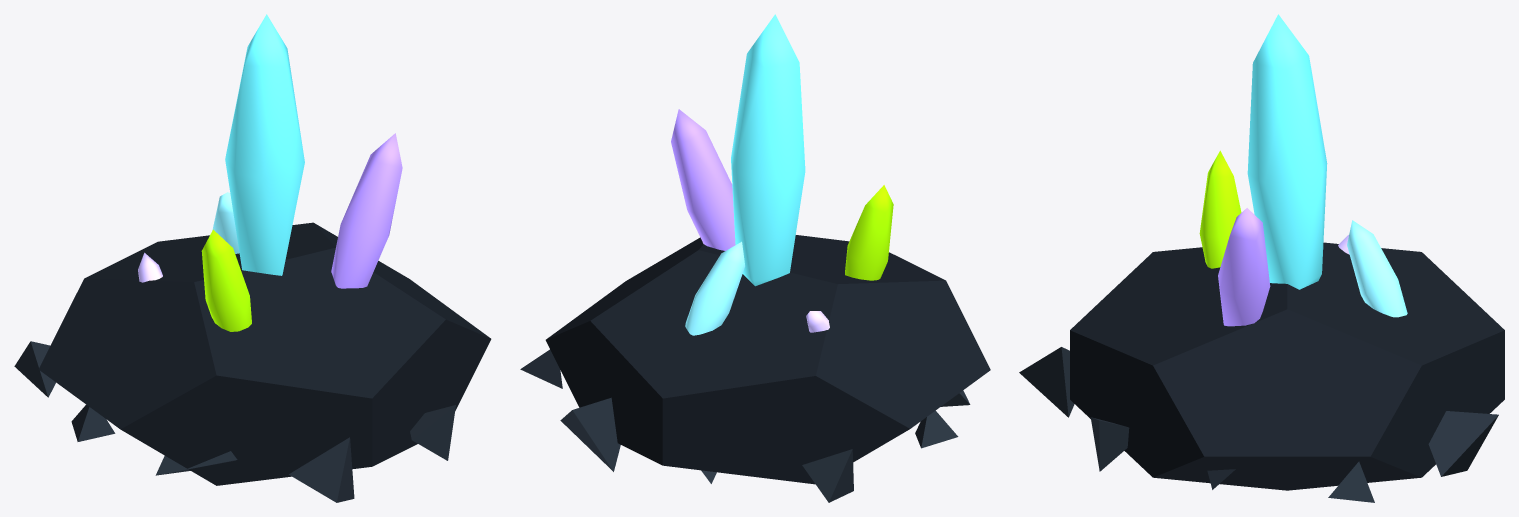
The model's file is demo.glb.
3 renders of one model, left to right at view 1: azimuth 30°, elevation 25°; view 2: azimuth 150°, elevation 25°; view 3: azimuth 270°, elevation 25°, orthographic. The views are drawn at different scales.
Visible parts, largest first — view 1: StoneBase, Crystal_0, Crystal_1, Crystal_2, Shard_2, Shard_1, Shard_5, Shard_4, Crystal_3, Shard_3; view 2: StoneBase, Crystal_0, Crystal_1, Crystal_2, Crystal_3, Shard_7, Shard_5, Shard_4, Shard_8; view 3: StoneBase, Crystal_0, Crystal_1, Crystal_3, Crystal_2, Shard_7, Shard_2, Shard_1, Shard_8.
Boxes of the visible parts, left/top/right/bottom form: StoneBase: left=38, top=222, right=491, bottom=485; Crystal_0: left=225, top=14, right=304, bottom=275; Crystal_1: left=331, top=133, right=402, bottom=288; Crystal_2: left=201, top=229, right=251, bottom=331; Shard_2: left=289, top=437, right=354, bottom=502; Shard_1: left=410, top=405, right=455, bottom=460; Shard_5: left=14, top=341, right=55, bottom=397; Shard_4: left=71, top=404, right=115, bottom=441; Crystal_3: left=212, top=192, right=239, bottom=253; Shard_3: left=155, top=451, right=237, bottom=475; StoneBase: left=545, top=235, right=990, bottom=484; Crystal_0: left=731, top=14, right=805, bottom=286; Crystal_1: left=671, top=109, right=735, bottom=250; Crystal_2: left=845, top=185, right=893, bottom=280; Crystal_3: left=685, top=241, right=744, bottom=335; Shard_7: left=560, top=397, right=620, bottom=471; Shard_5: left=802, top=449, right=853, bottom=502; Shard_4: left=915, top=410, right=958, bottom=448; Shard_8: left=520, top=349, right=562, bottom=388; StoneBase: left=1070, top=242, right=1504, bottom=490; Crystal_0: left=1247, top=14, right=1327, bottom=289; Crystal_1: left=1218, top=208, right=1270, bottom=326; Crystal_3: left=1347, top=220, right=1407, bottom=317; Crystal_2: left=1199, top=150, right=1241, bottom=268; Shard_7: left=1428, top=411, right=1498, bottom=476; Shard_2: left=1019, top=347, right=1074, bottom=417; Shard_1: left=1090, top=417, right=1129, bottom=471; Shard_8: left=1328, top=461, right=1374, bottom=502.
Bounding box in the file's own units: 1.73 × 1.79 × 1.79.
